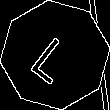L_NE: (27, 26, 83, 84)
